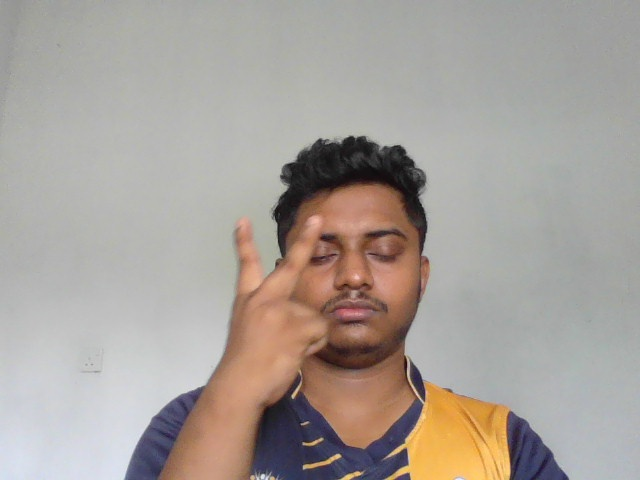See You: (219, 214, 332, 412)
